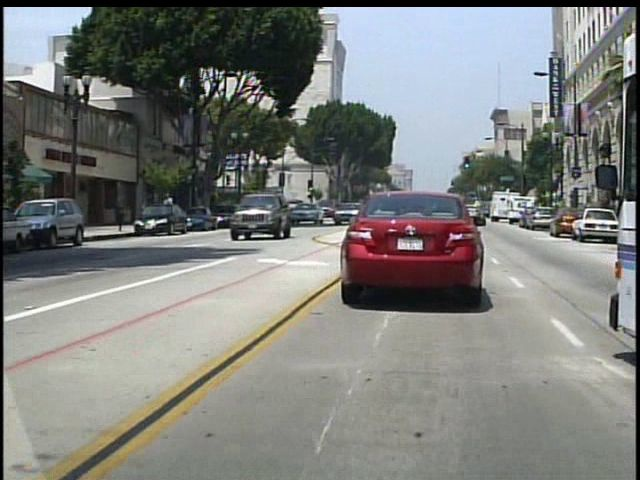person: (168, 192, 181, 225)
